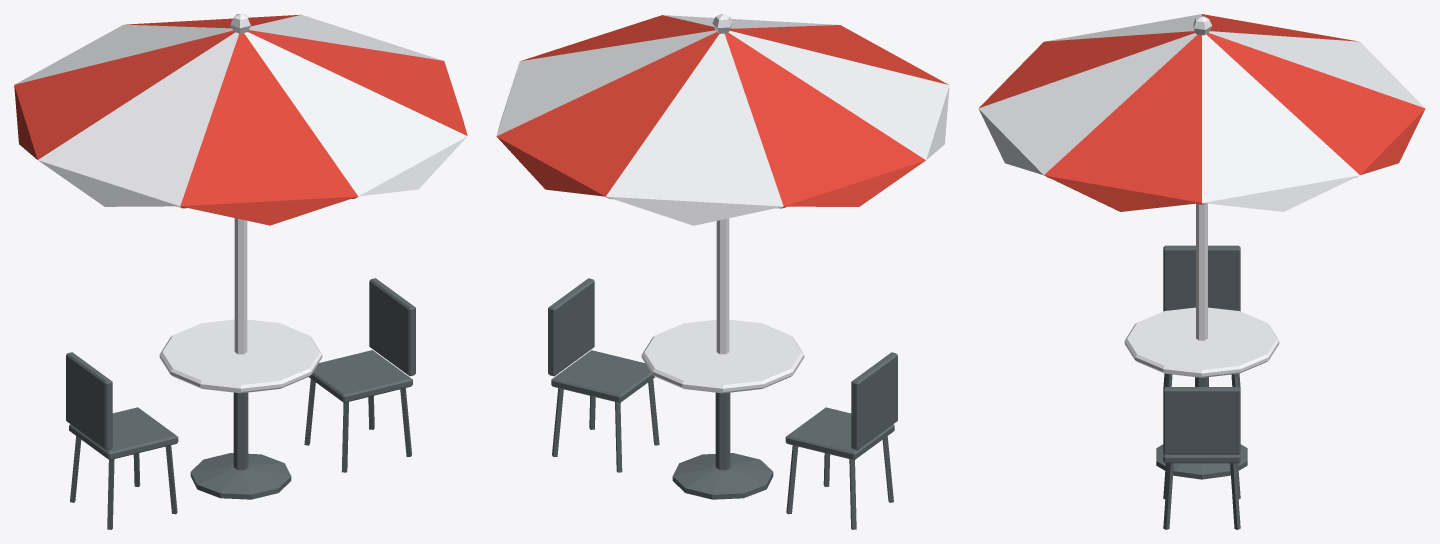
Rendered from cafeTable.glb.
3 views of the same model, side by side, from view 1: azimuth 30°, elevation 25°; view 2: azimuth 150°, elevation 25°; view 3: azimuth 270°, elevation 25° (orthographic). The views are drawn at different scales.
Parts seen in each view (by area): view 1: cafeTable-m; view 2: cafeTable-m; view 3: cafeTable-m.
Part boxes in pixels (bbox=[...]): cafeTable-m: bbox=[14, 14, 467, 529]; cafeTable-m: bbox=[496, 14, 949, 529]; cafeTable-m: bbox=[978, 14, 1425, 529].
Bounding box in the file's own units: 2.6 × 2.84 × 2.6.
